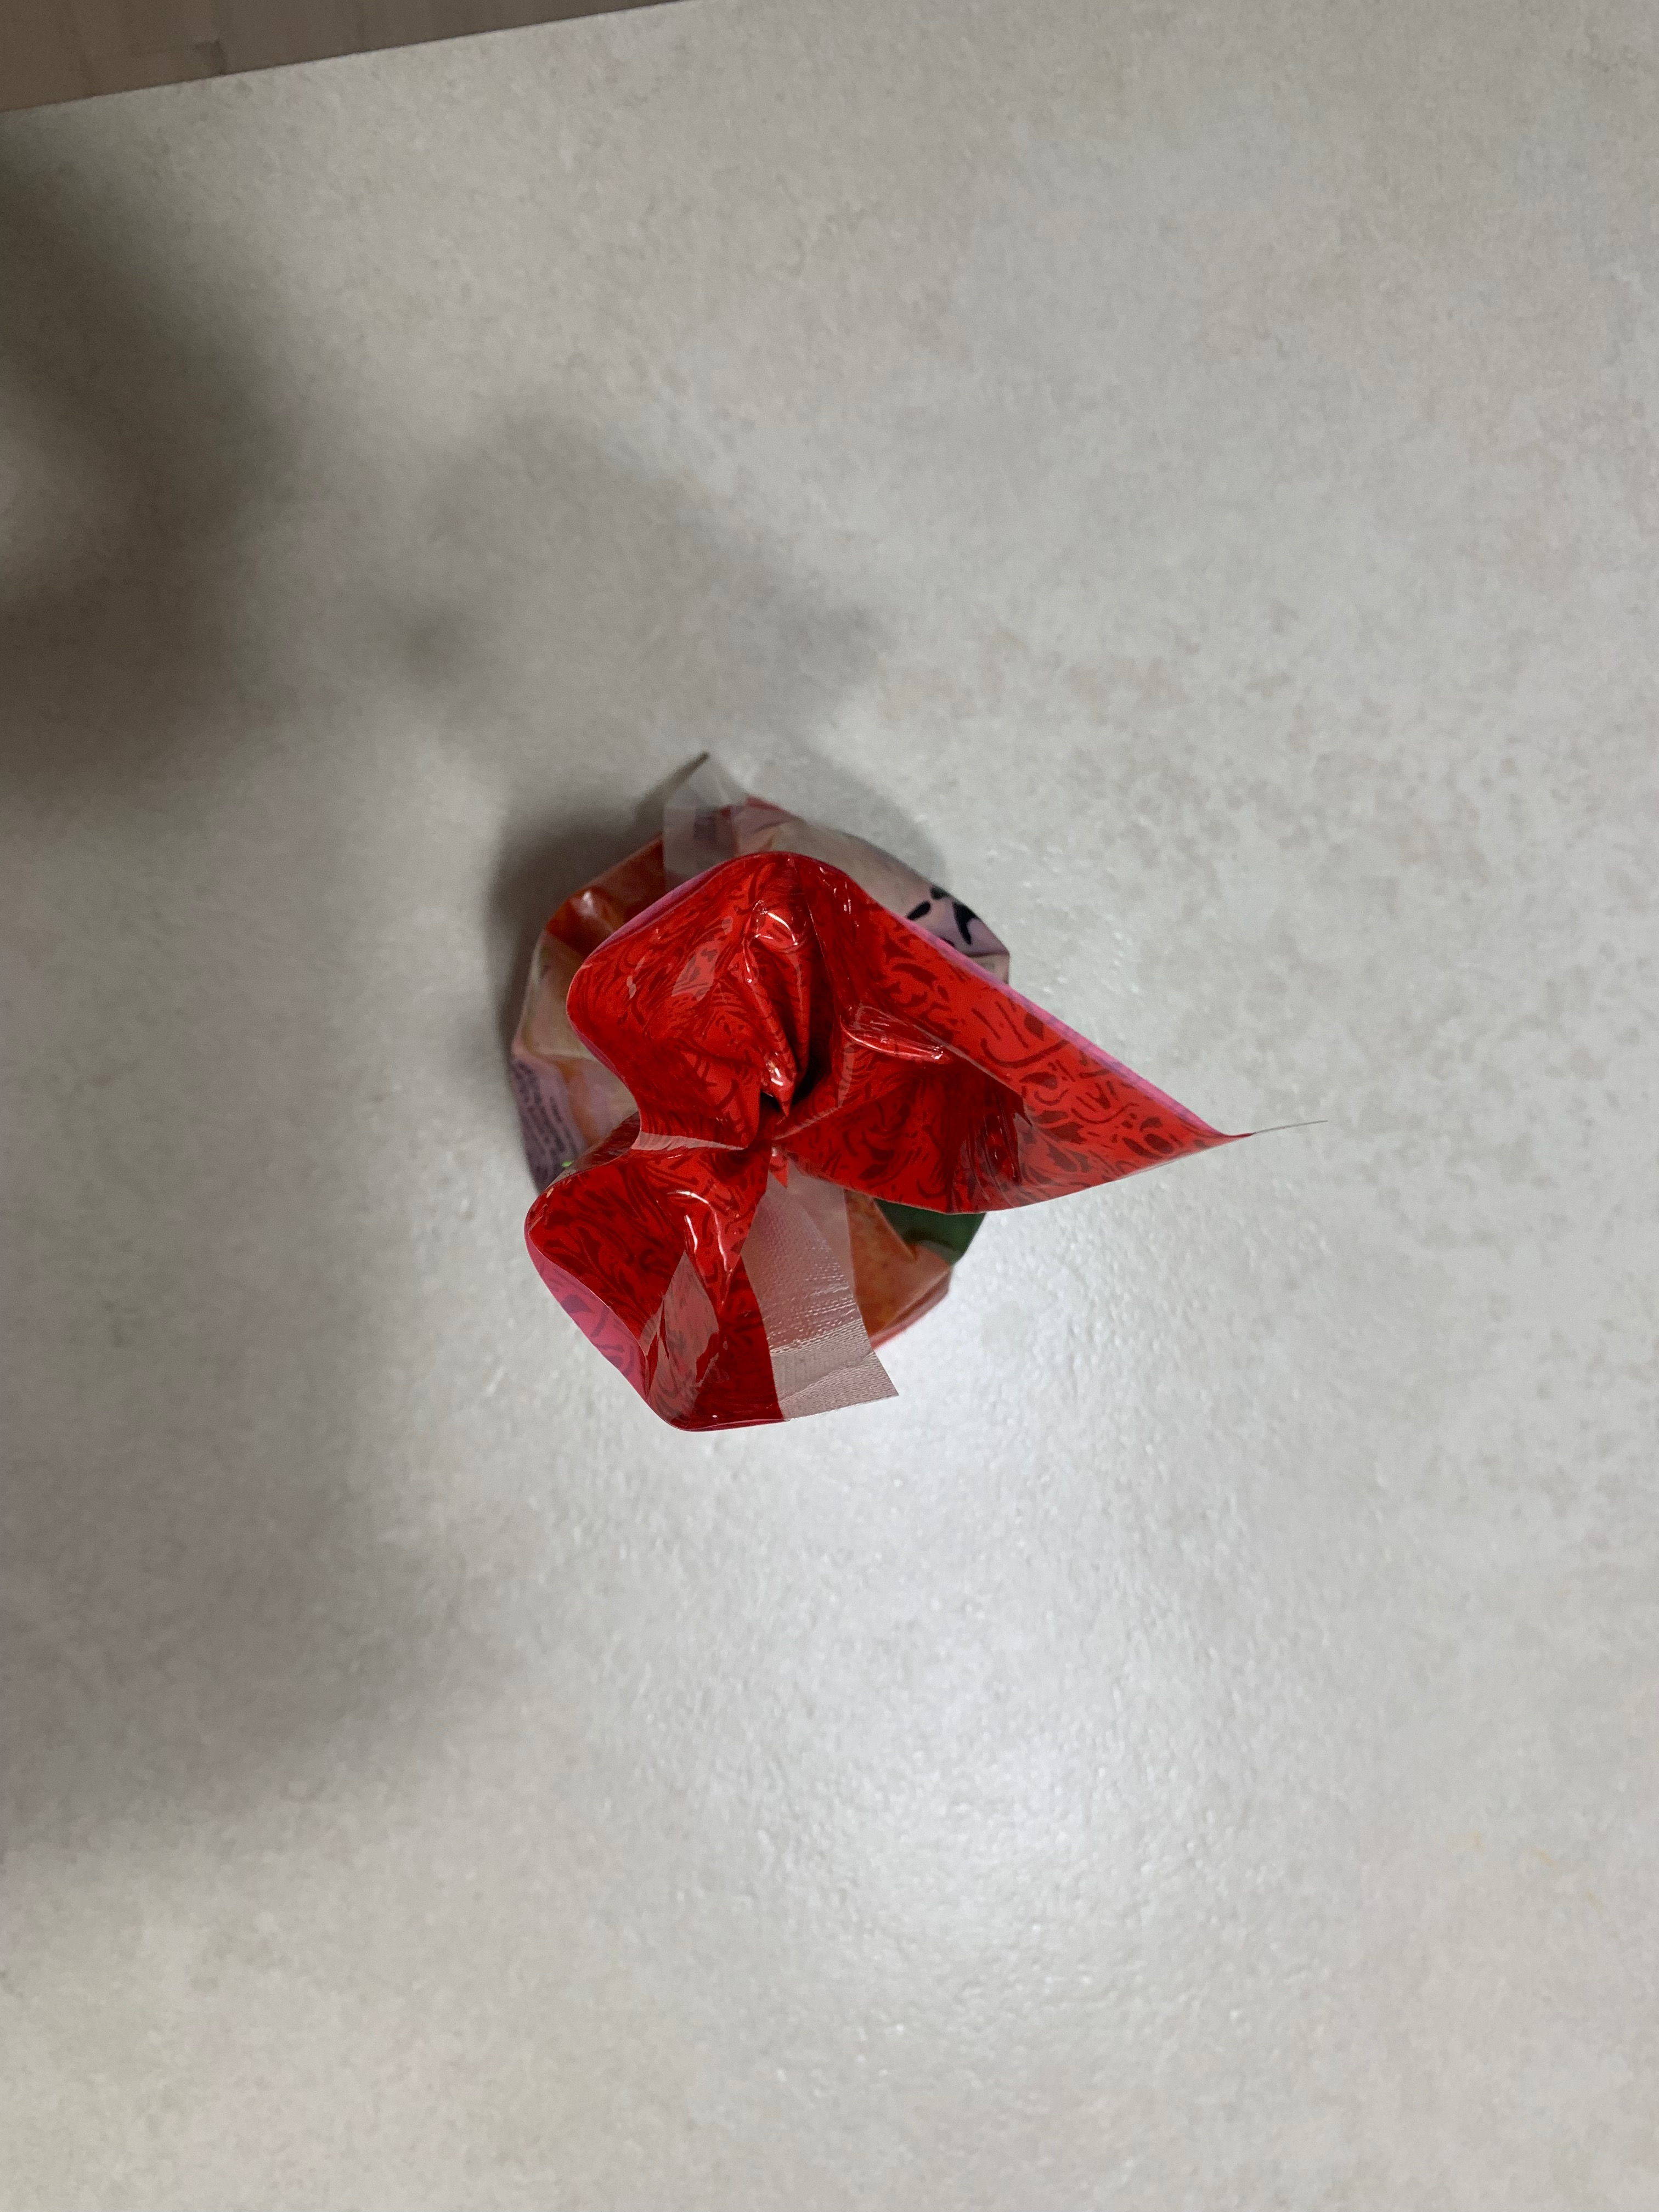kimchi: (505, 792, 1216, 1432)
